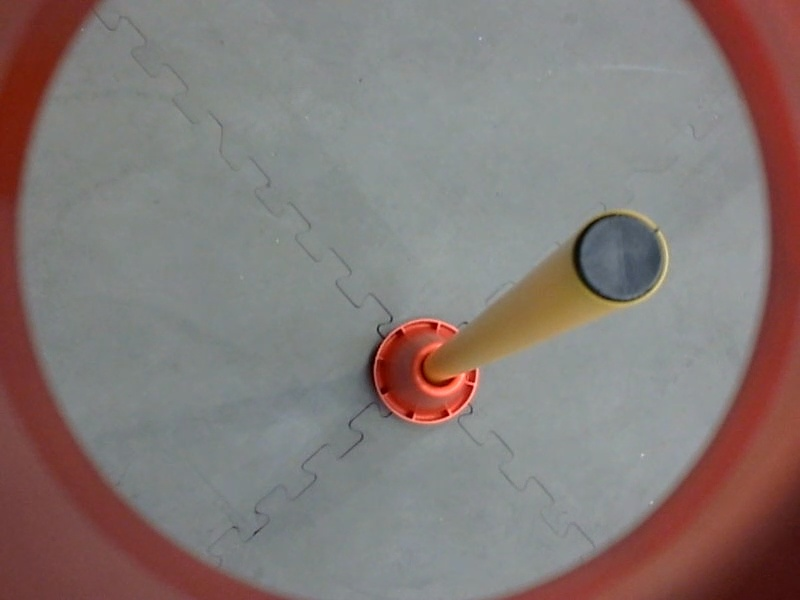tip: (564, 204, 674, 313)
